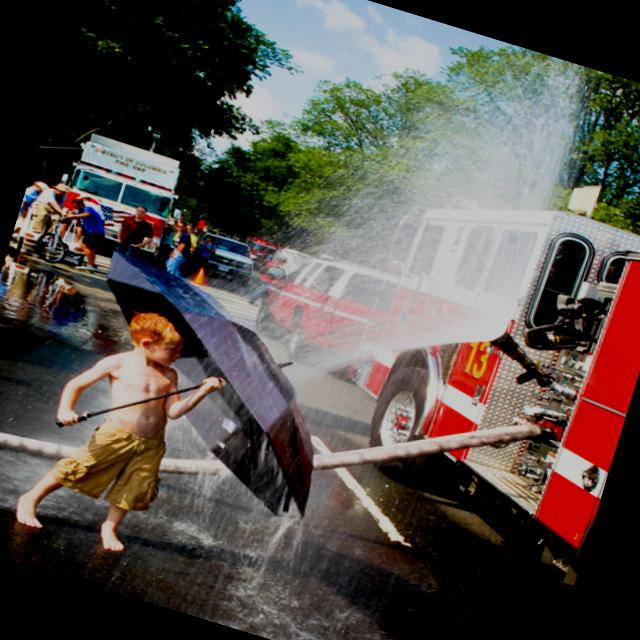Vehicle: (49, 132, 188, 264), (187, 228, 260, 288), (189, 229, 263, 287), (239, 233, 278, 264)
